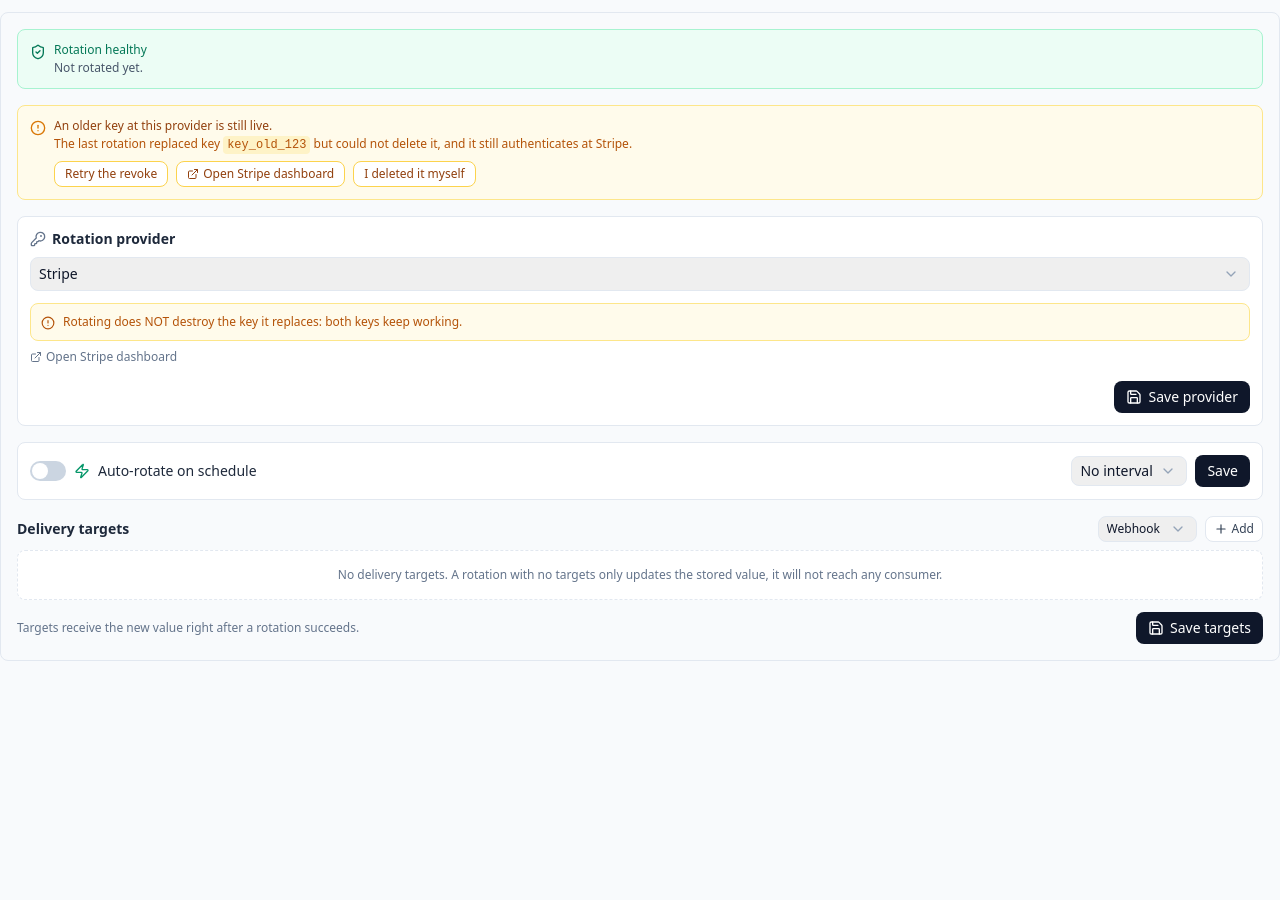
Test: a provider save must not invent an all-clear the server did not give › positive control: when the server DOES clear it, the banner goes
The width and height of the screenshot is (1280, 900).
expect the text "An older key at this provider is still live." is shown: met, box [54,117,272,134]
What coordinates should you click on to do the following:
click the button "Save provider"
I would click on:
 (1182, 397)
Its box is [1114,381,1250,413].
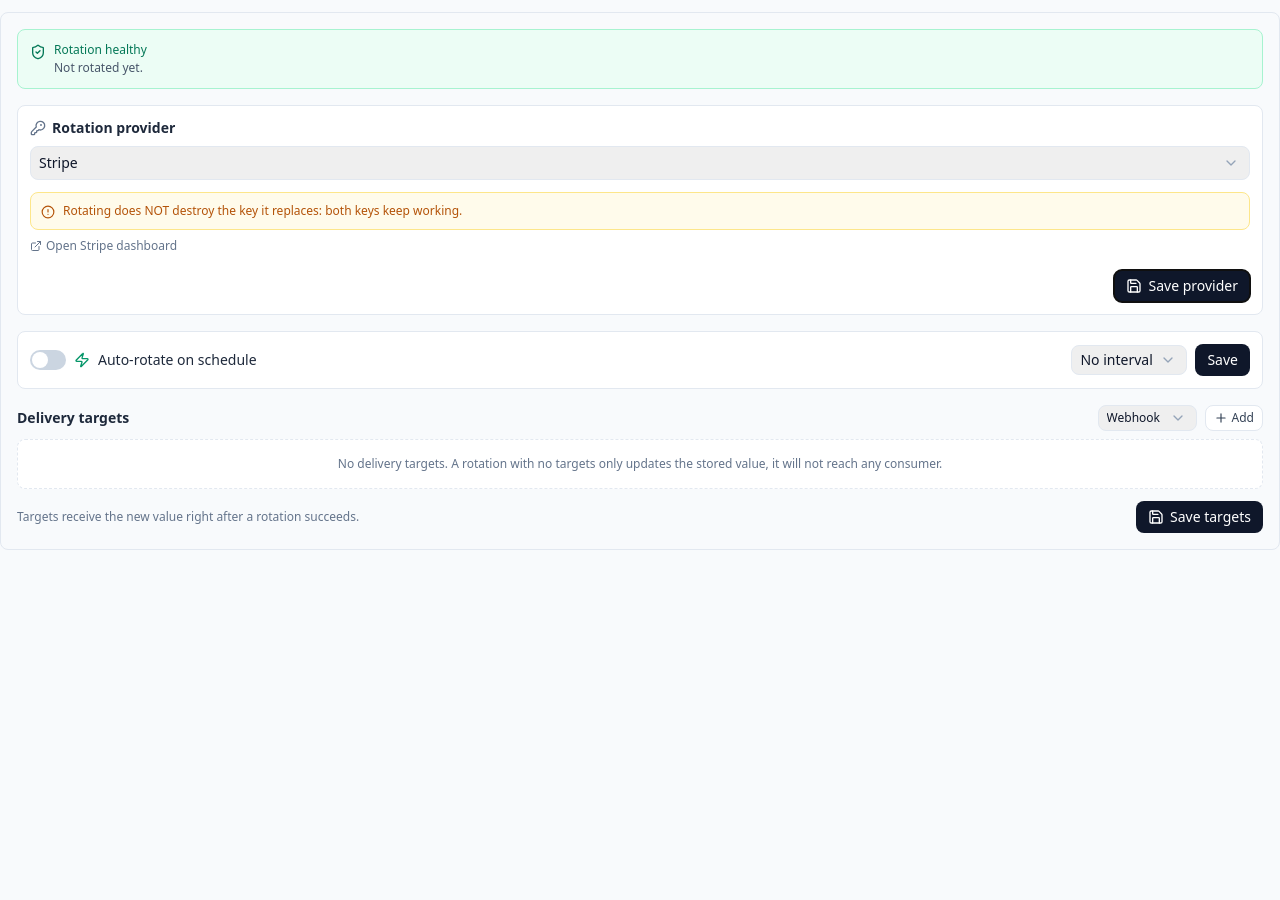
expect the text "An older key at this provider is still live." is gone: met
